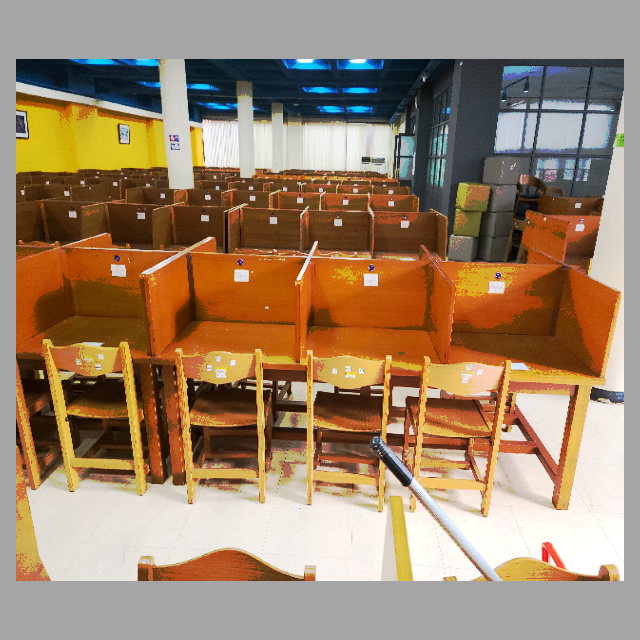empty: (457, 239, 617, 428), (302, 237, 449, 429), (156, 242, 297, 418)
